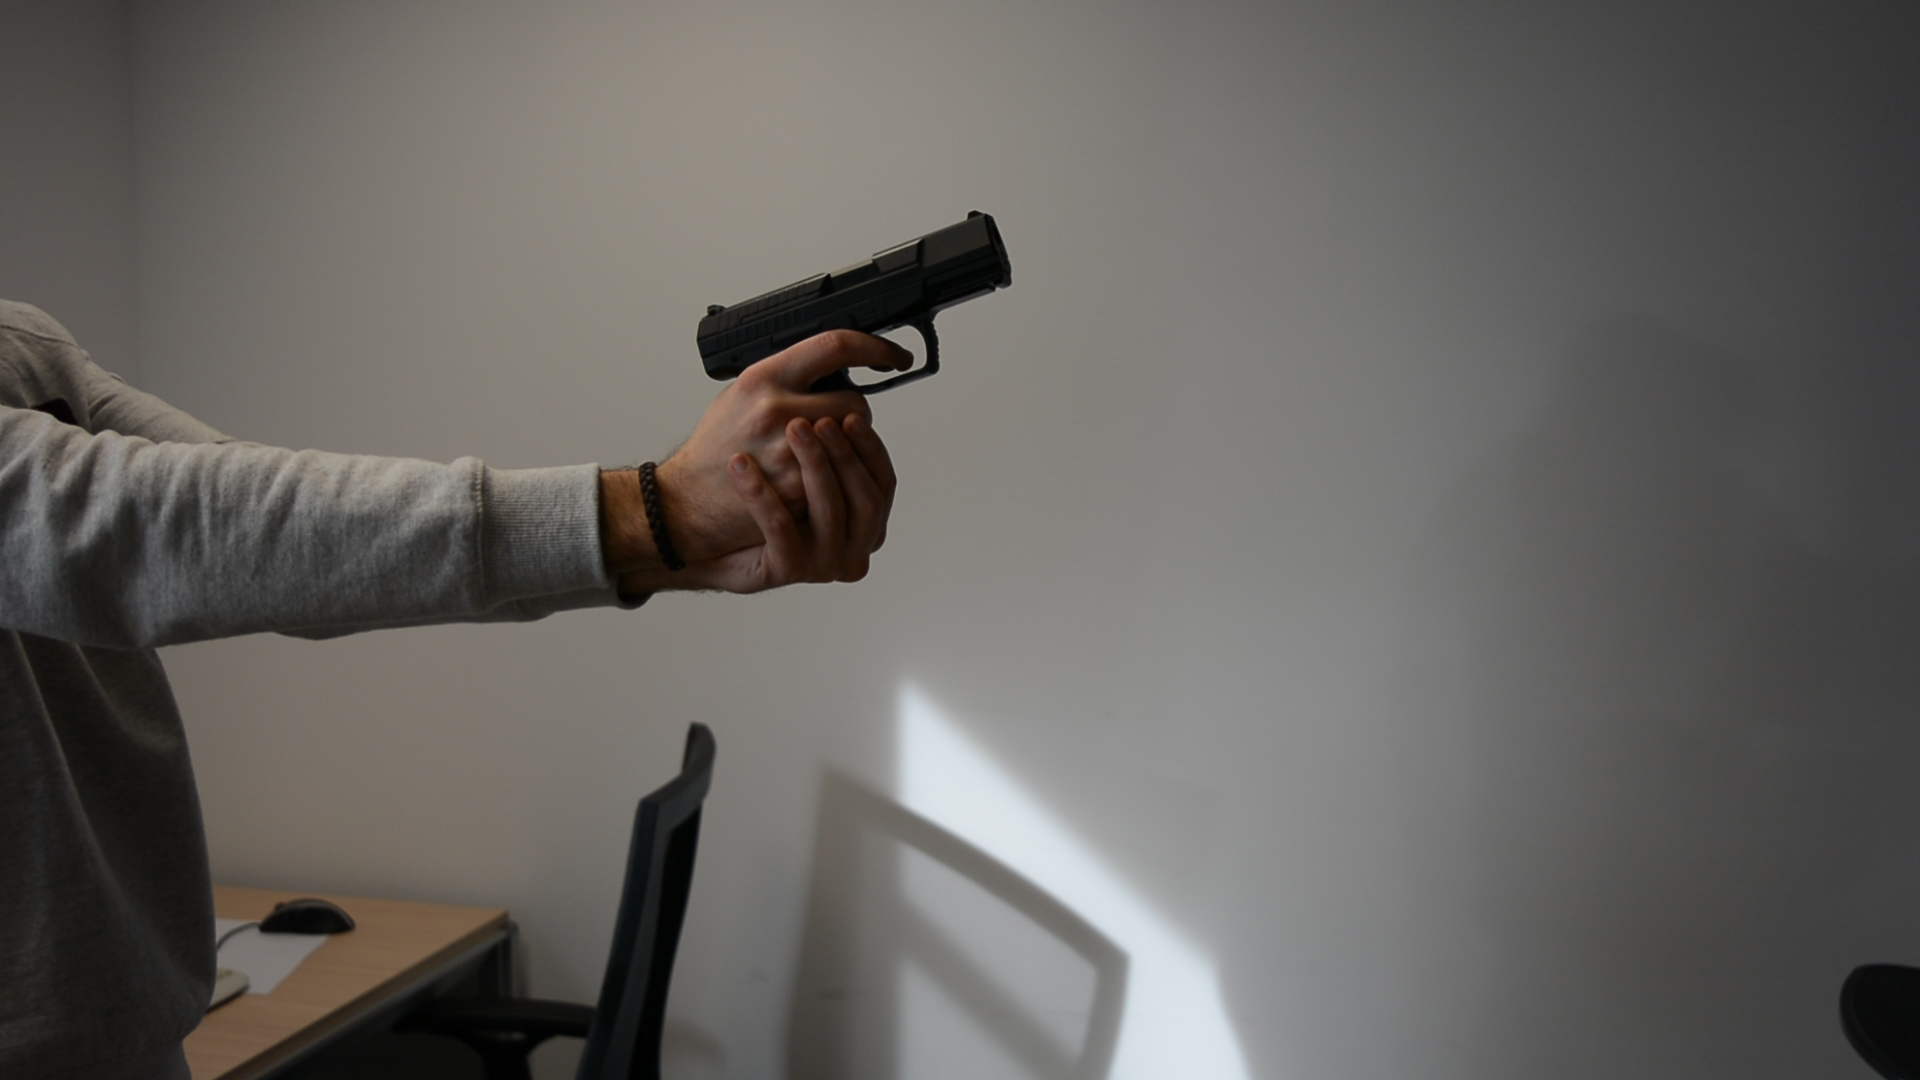pistol: (694, 208, 1014, 400)
